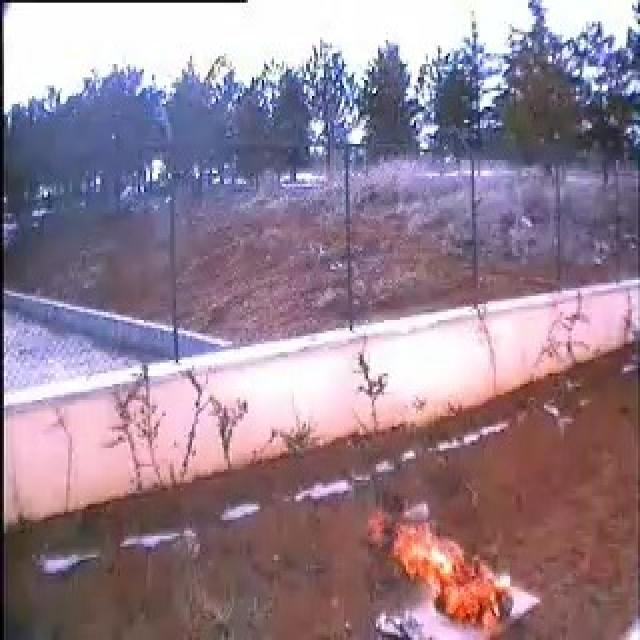fire: (368, 508, 514, 636)
smoke: (401, 459, 421, 506)
